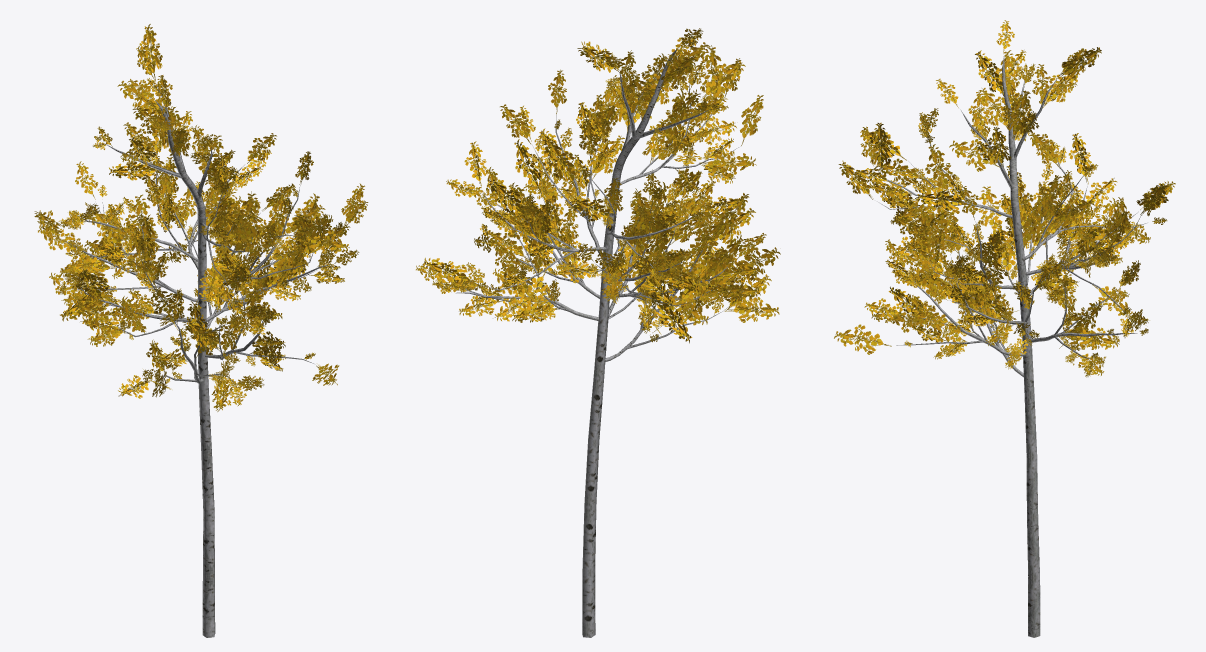
File: aspen-medium.glb
3 views of the same model, side by side, from view 1: azimuth 30°, elevation 25°; view 2: azimuth 150°, elevation 25°; view 3: azimuth 270°, elevation 25° (orthographic). The views are drawn at different scales.
Visible parts, largest first — view 1: Tree; view 2: Tree; view 3: Tree.
Boxes of the visible parts, <box> form: Tree: <box>34,24,368,637</box>; Tree: <box>416,28,780,637</box>; Tree: <box>834,20,1175,637</box>.
Size of the model in its own units: 37.35 by 70.6 by 40.12.
2 materials, 2 textured.
